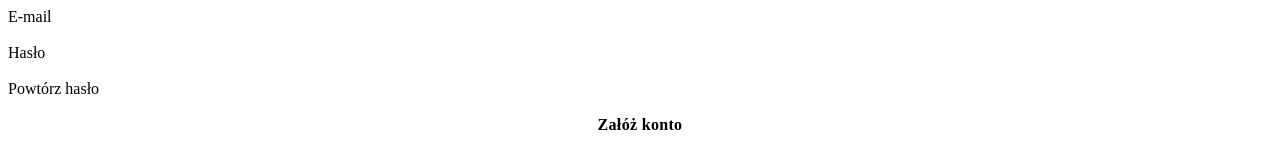
Scenario: RegisterForm › rejects a repeated password that differs
Type "wanderer@example.com" into the field with id "register-email".
click(640, 35); type("wanderer@example.com")  # box [8,26,1272,44]
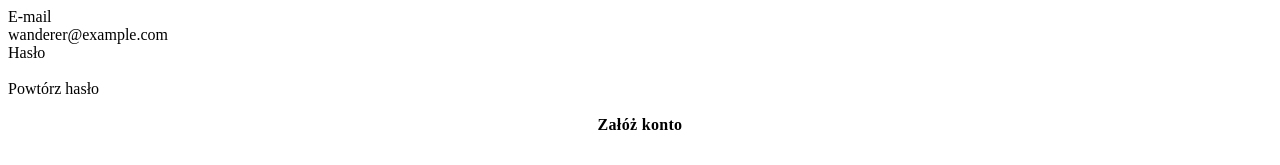
Type "camino2026" into the password field with id "register-password".
click(640, 71); type("camino2026")  # box [8,62,1272,80]
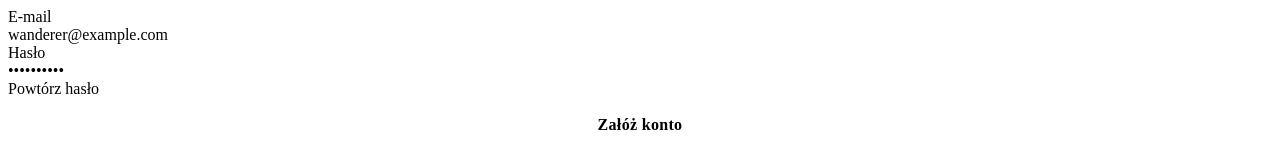
Type "camino2025" into the password field with id "register-repeat".
click(640, 107); type("camino2025")  # box [8,98,1272,116]
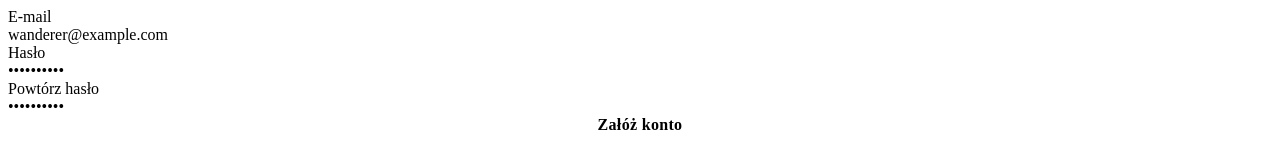
Submit the form
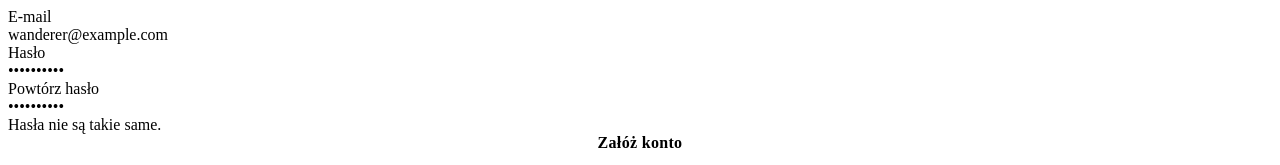
Now the form shows "Hasła nie są takie same.", box [8,116,161,133]
